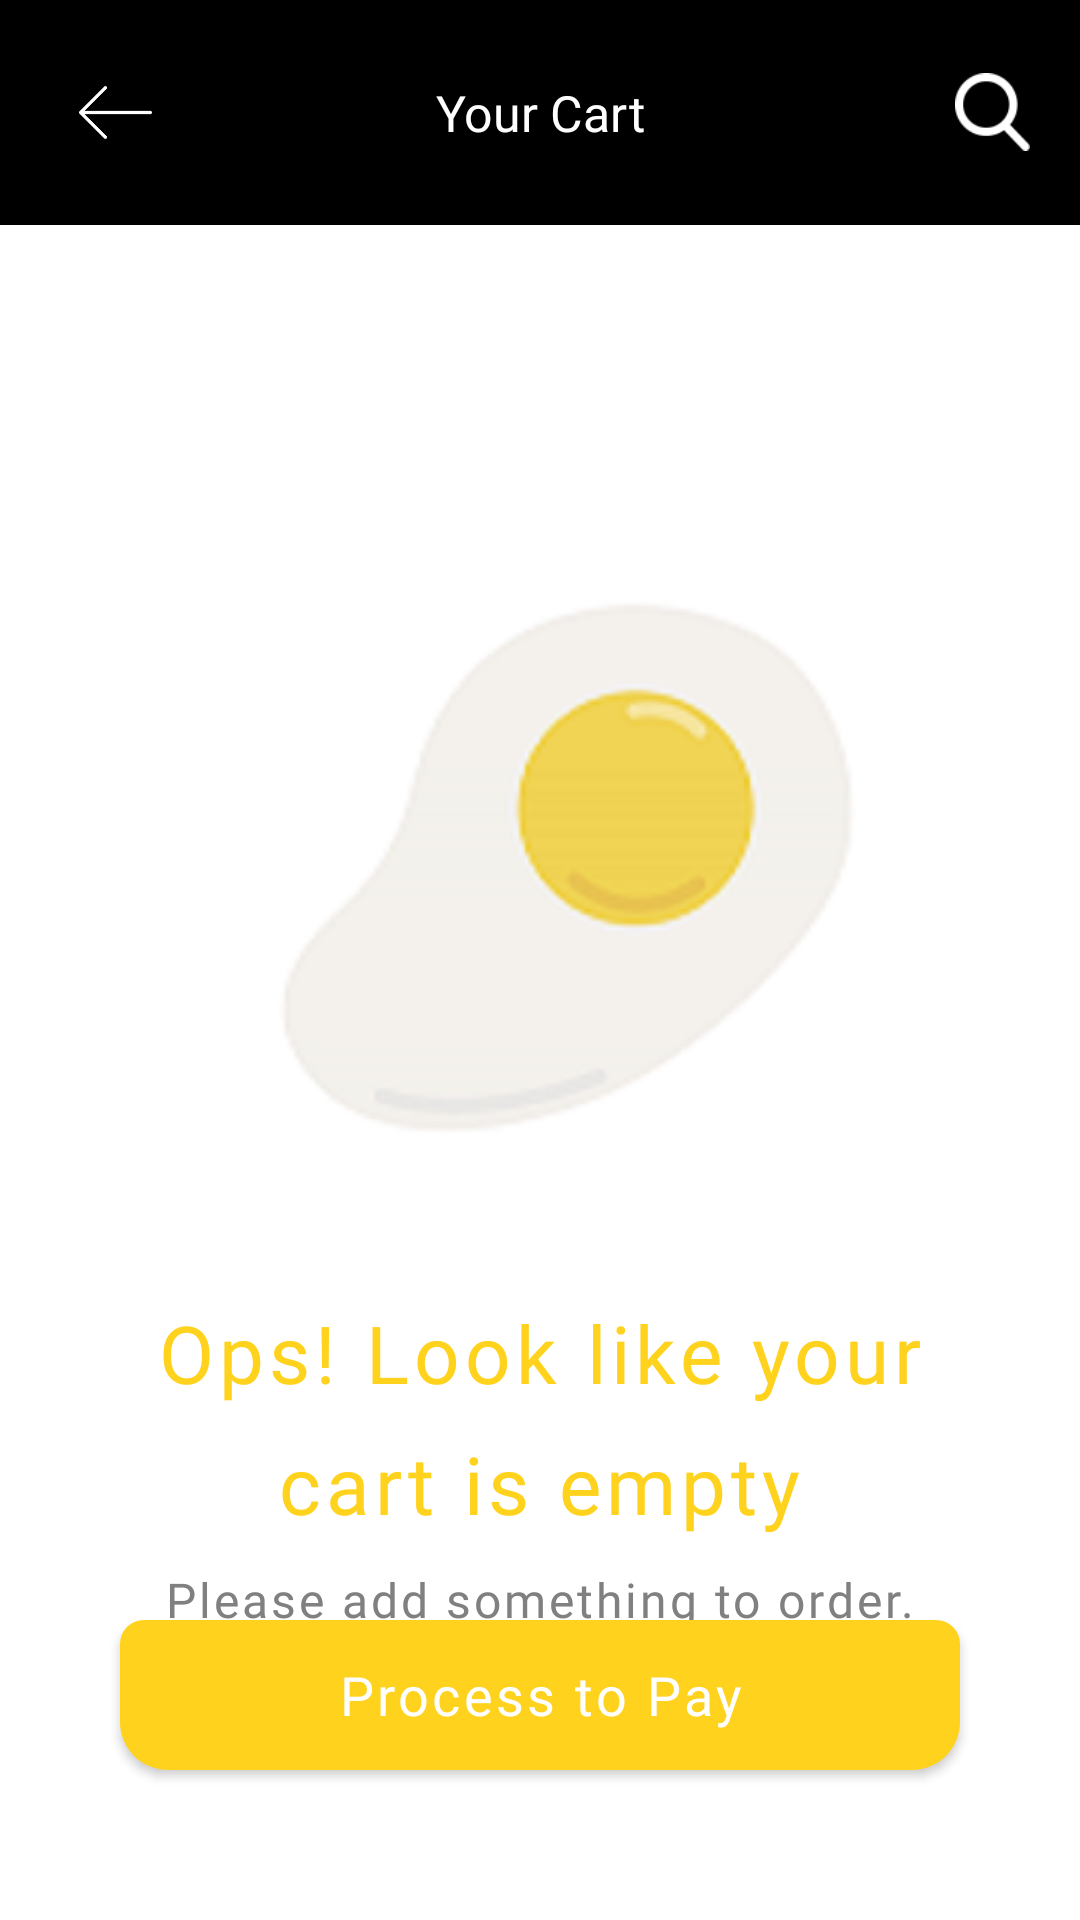

Named icons in this screenshot (1080px x 1920px) and their centers, point (x, y):
left arrow: point (115, 112)
search: point (992, 112)
